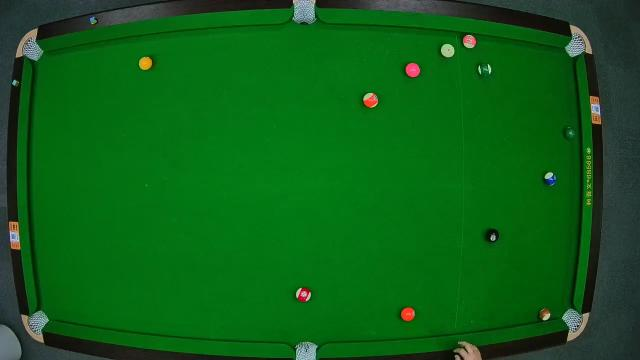bag1: (22, 38, 44, 62)
bag2: (293, 1, 315, 23)
bag3: (566, 34, 586, 57)
bag4: (29, 308, 49, 334)
bag5: (294, 342, 320, 360)
bag6: (562, 310, 582, 332)
ball0: (440, 40, 454, 57)
ball1: (137, 55, 153, 70)
ball10: (542, 172, 560, 187)
ball11: (294, 287, 312, 303)
ball12: (462, 34, 478, 50)
ball13: (364, 92, 381, 110)
ball14: (478, 61, 492, 77)
ball15: (538, 306, 552, 320)
ball4: (406, 63, 422, 78)
ball5: (400, 306, 416, 322)
ball6: (563, 126, 579, 140)
ball8: (486, 228, 500, 243)
